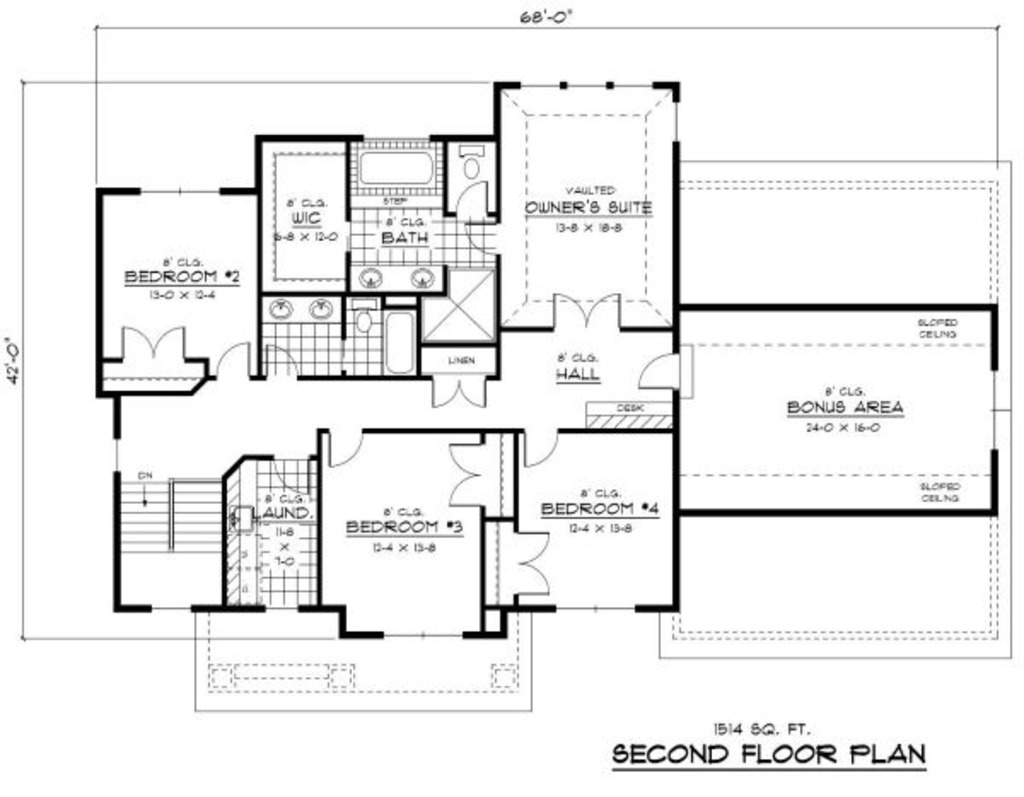door: (548, 292, 621, 338), (446, 438, 484, 512), (515, 527, 554, 599), (119, 327, 194, 363), (423, 373, 489, 409), (632, 354, 684, 393), (321, 427, 364, 473), (211, 341, 255, 385), (260, 343, 306, 384), (521, 427, 562, 468), (455, 179, 495, 217)
small_sink: (347, 255, 451, 299), (261, 292, 341, 326)
stairs: (116, 463, 227, 610)
tub: (351, 136, 443, 196), (378, 306, 423, 376)
windows: (517, 76, 656, 92), (377, 625, 464, 643), (553, 598, 638, 615), (133, 186, 223, 200)
